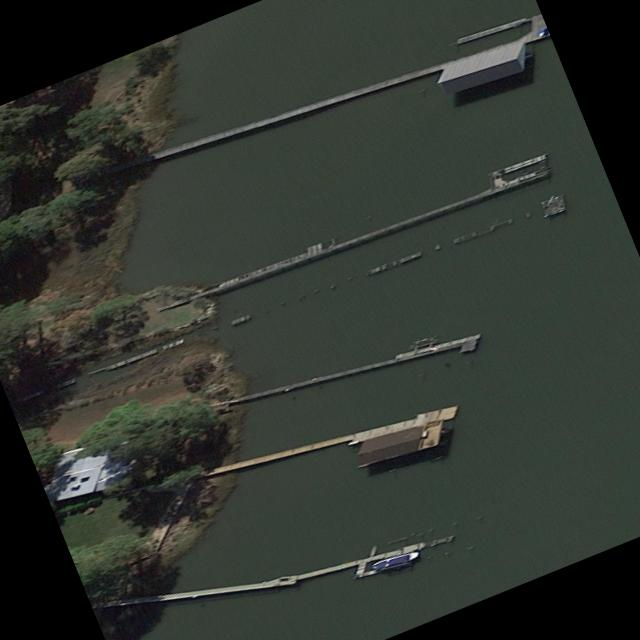ship: (367, 549, 419, 570)
